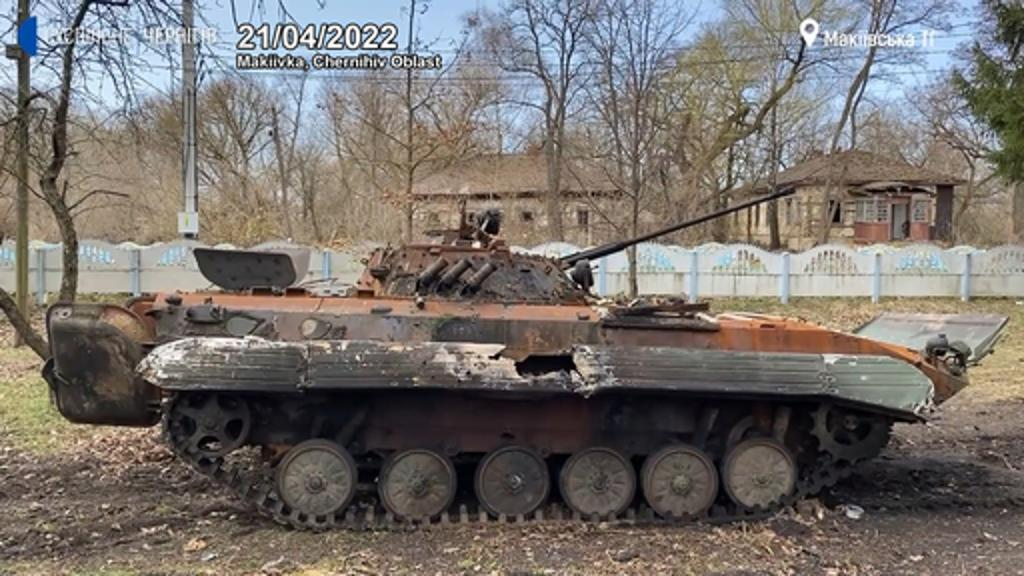APC-IFV: (24, 160, 976, 550)
